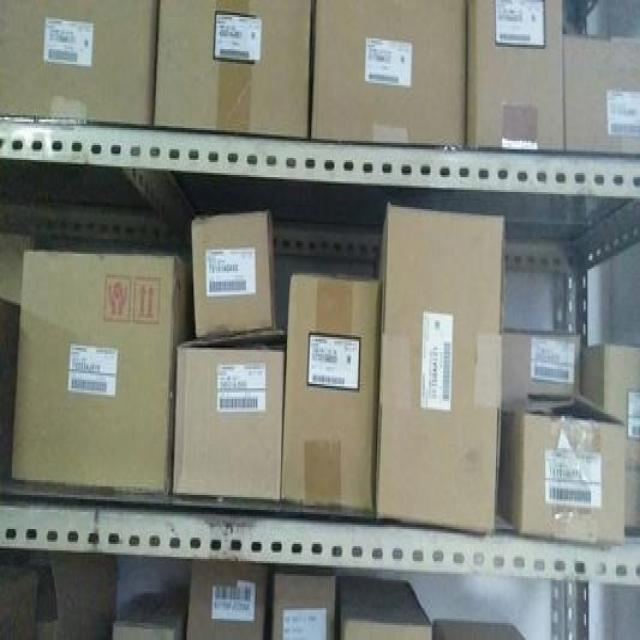box: (12, 252, 197, 492), (374, 208, 506, 532), (282, 275, 380, 511), (309, 0, 466, 146), (152, 2, 312, 138), (0, 2, 159, 128), (174, 330, 289, 501), (496, 395, 627, 545), (468, 1, 564, 150), (562, 0, 639, 154), (580, 345, 639, 530), (0, 549, 121, 637), (192, 211, 275, 337), (500, 329, 582, 411), (185, 562, 269, 638), (339, 578, 432, 637), (267, 571, 336, 638), (113, 590, 189, 638), (0, 567, 39, 638), (433, 619, 526, 638)
